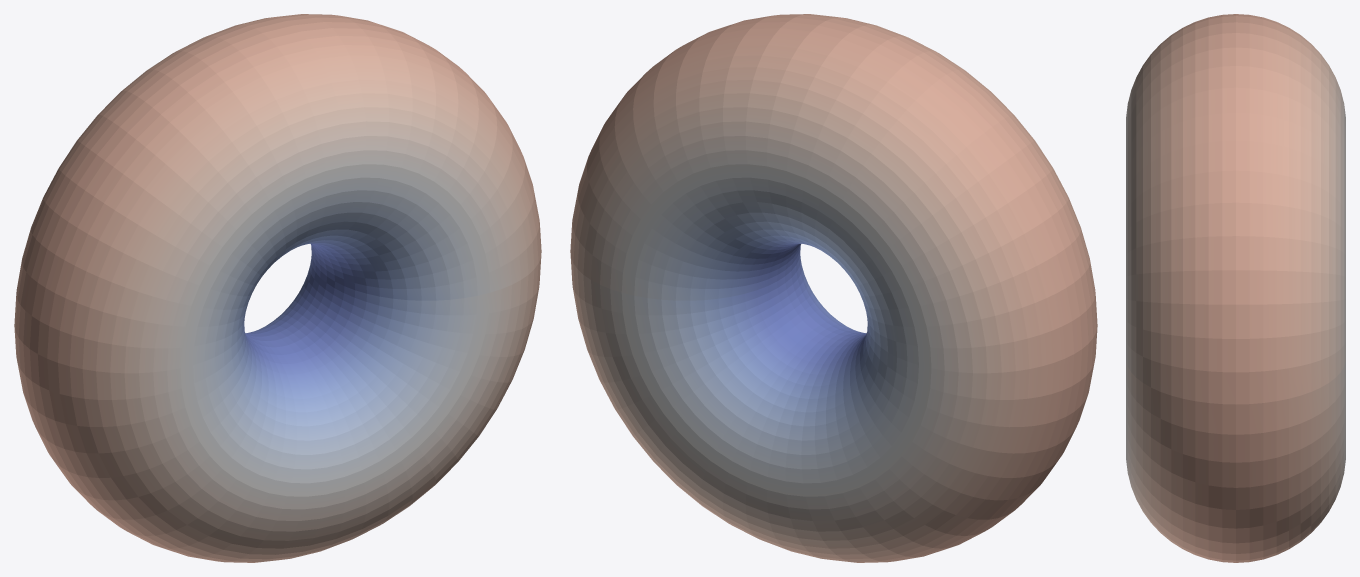
The picture shows the model from 3 angles, left to right: view 1: azimuth 30°, elevation 25°; view 2: azimuth 150°, elevation 25°; view 3: azimuth 270°, elevation 25°; orthographic projection. The views are drawn at different scales.
Visible parts, largest first — view 1: world; view 2: world; view 3: world.
Part boxes in pixels (left/top/right/bottom): world: left=14, top=14, right=541, bottom=562; world: left=570, top=14, right=1097, bottom=562; world: left=1126, top=14, right=1345, bottom=562.
Size of the model in its own units: 22.27 by 22.22 by 8.92.
